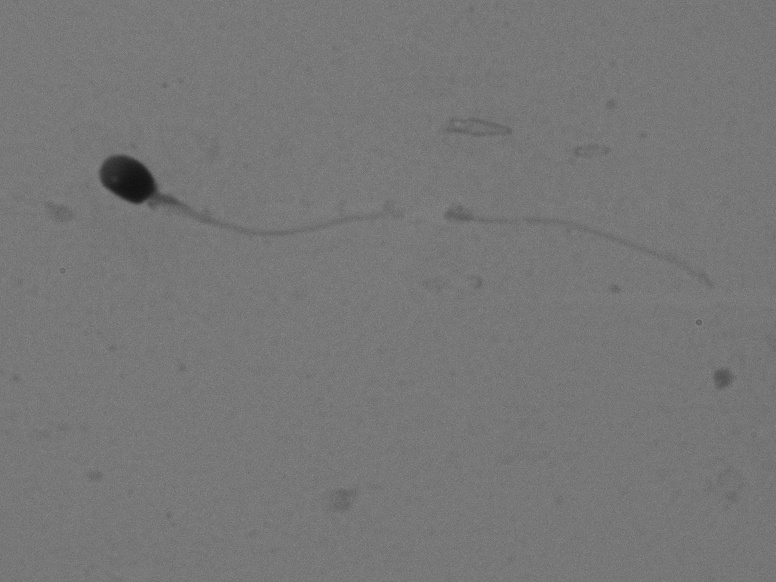Abnormal: (84, 144, 729, 329)
